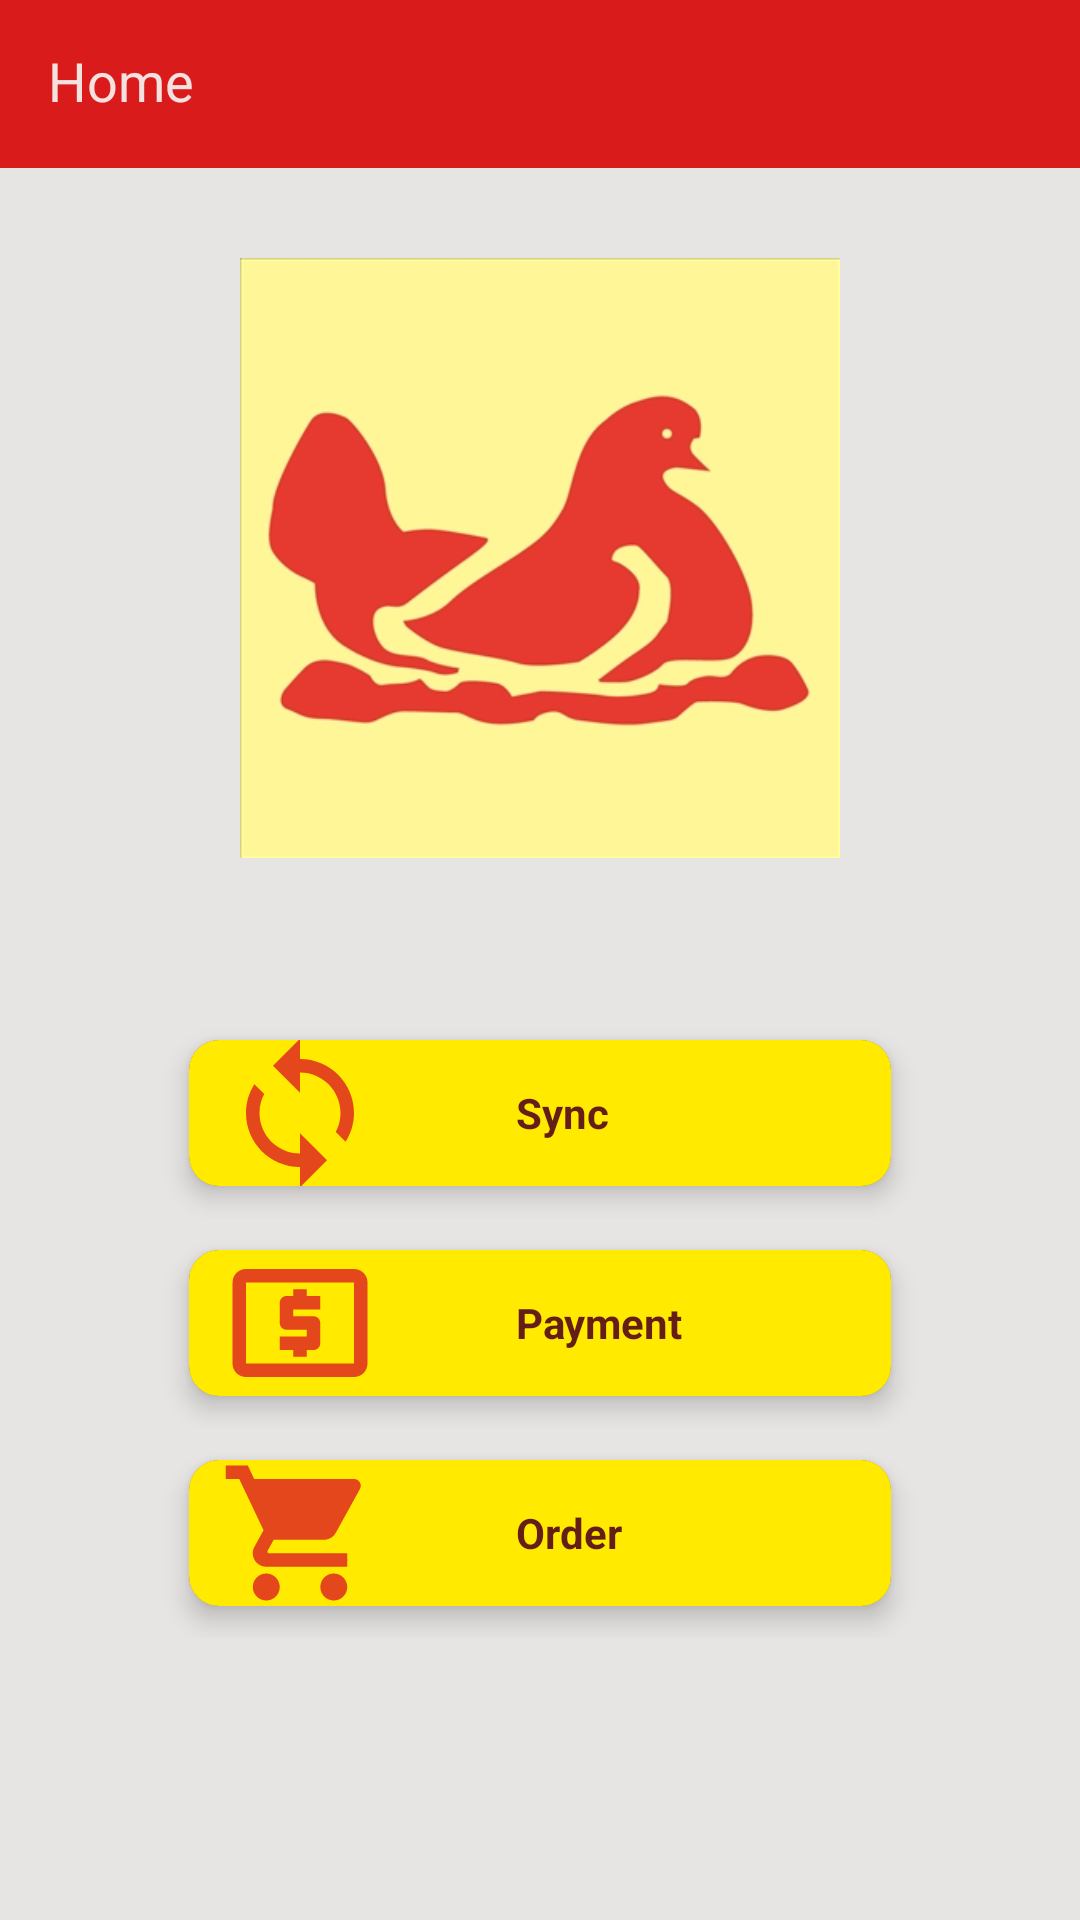

Named icons in this screenshot (1080w x 1920h) and their bounding boxes, {"left": x1, "top": y1, "right": x2, "bottom": y2}:
doller: {"left": 232, "top": 1269, "right": 368, "bottom": 1377}
local grocery store: {"left": 225, "top": 1465, "right": 361, "bottom": 1601}
